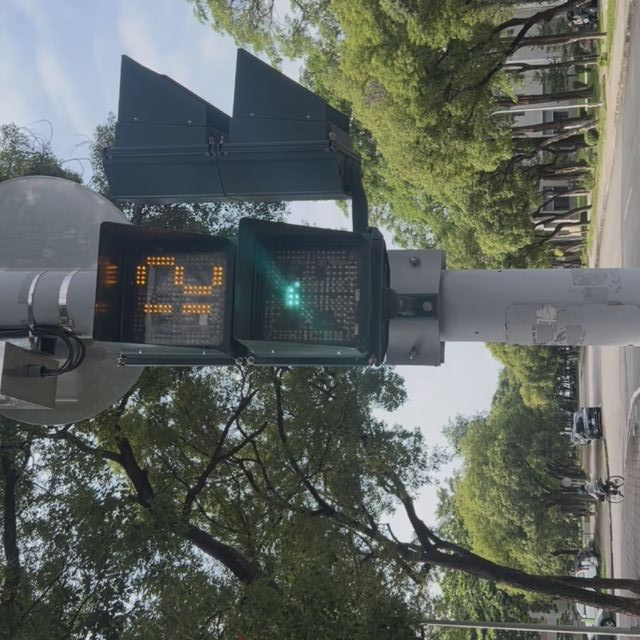green_light: (97, 223, 393, 365)
